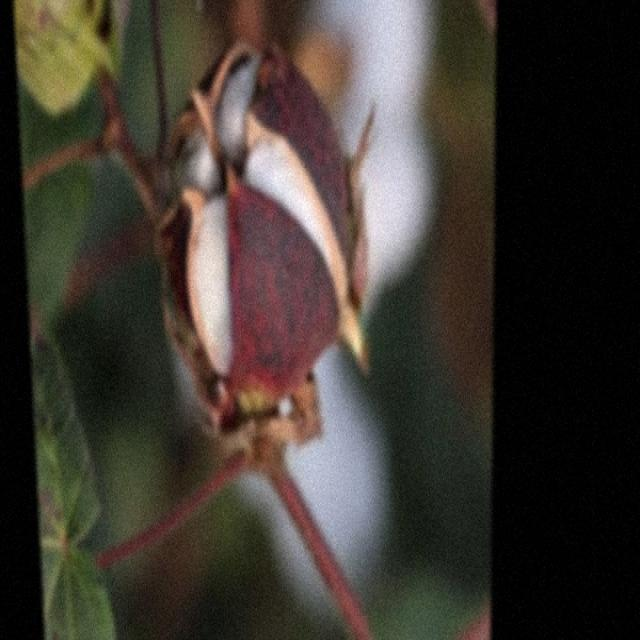Split Cotton Boll: (161, 41, 360, 390)
